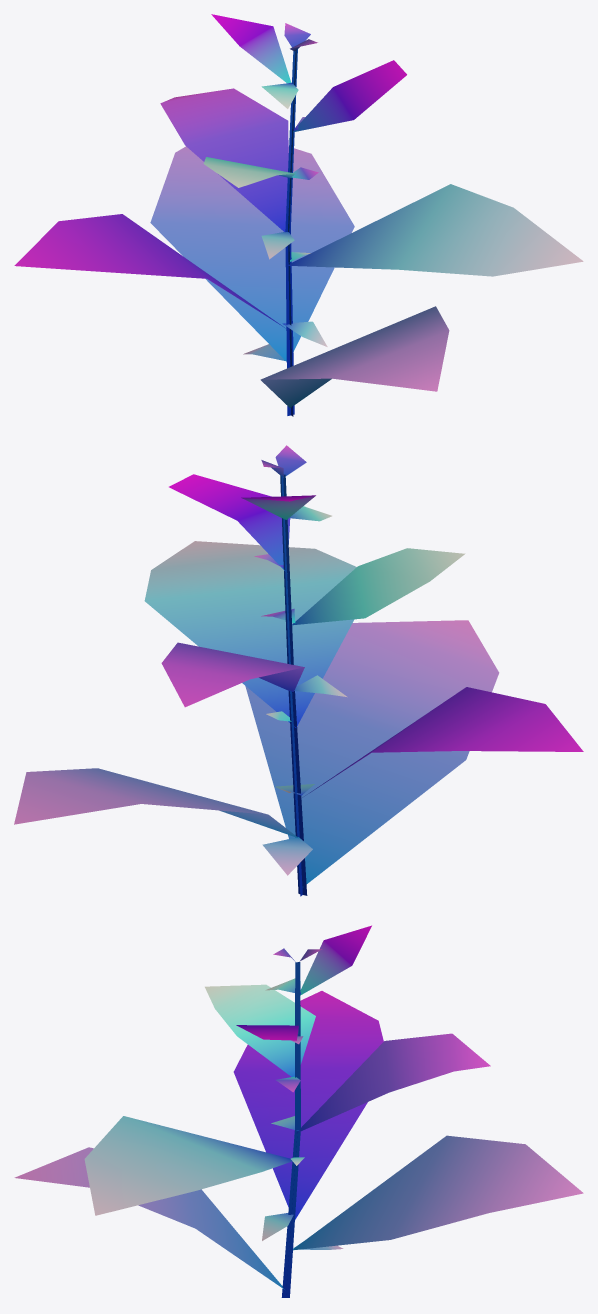
The model's file is Greater Burdock_LOD5_Var3_xh5pdgiqx.fbx.
3 views of the same model, one above another, from view 1: azimuth 30°, elevation 25°; view 2: azimuth 150°, elevation 25°; view 3: azimuth 270°, elevation 25° (orthographic). The views are drawn at different scales.
Parts seen in each view (by area): view 1: _fcd5_Var3_LOD5; view 2: _fcd5_Var3_LOD5; view 3: _fcd5_Var3_LOD5.
Part boxes in pixels (<box>): _fcd5_Var3_LOD5: <box>14,14,583,416</box>; _fcd5_Var3_LOD5: <box>14,445,583,896</box>; _fcd5_Var3_LOD5: <box>14,925,583,1297</box>.
Bounding box in the file's own units: 74.23 × 59.26 × 85.87.
